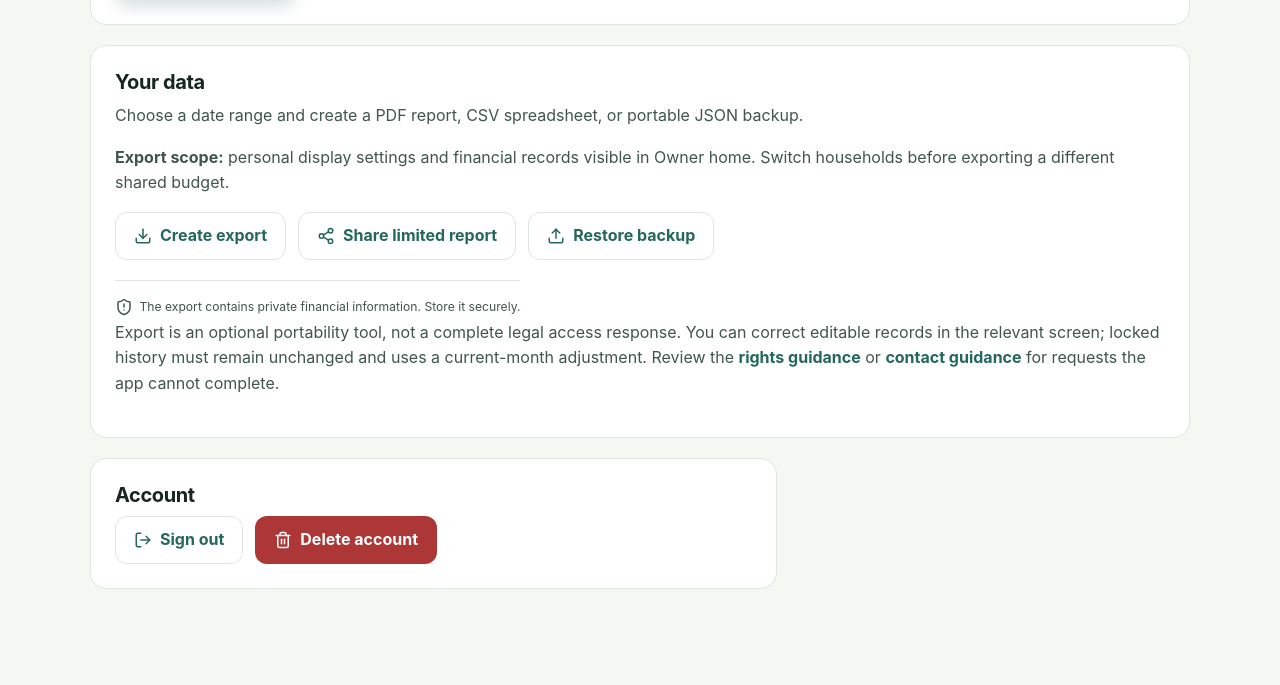
COMP-007 account deletion › does not clear the session or report success when server deletion fails
(page scrolled)
Click the button "Delete account": {"x": 346, "y": 540} [255, 516, 437, 564]
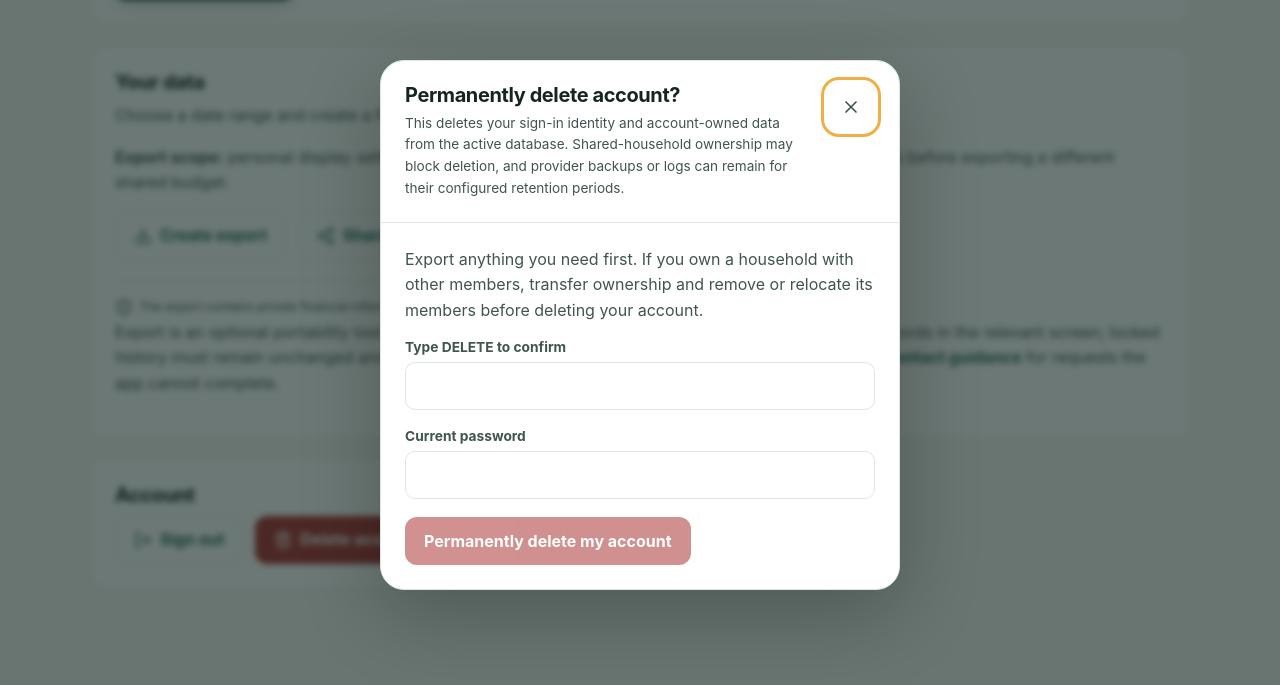
In the field labelled "Type DELETE to confirm": {"x": 640, "y": 386} [405, 362, 875, 410], type "DELETE"
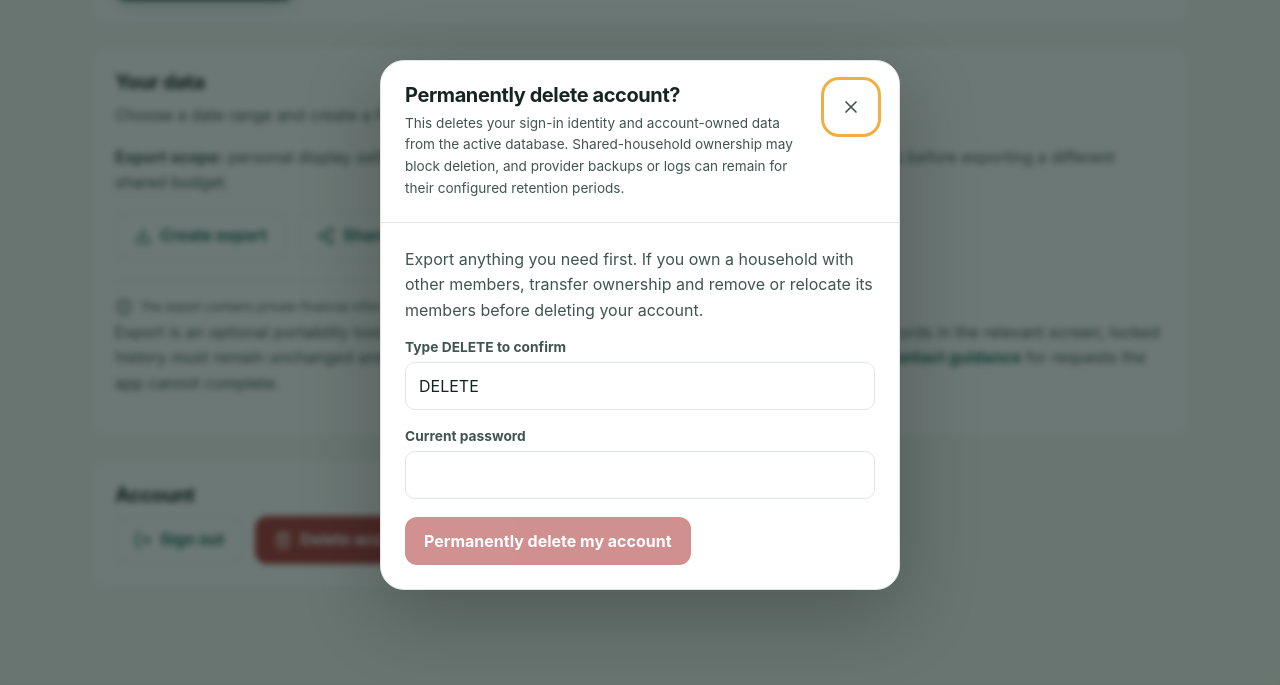
In the password field labelled "Current password": {"x": 640, "y": 475} [405, 451, 875, 499], type "correct horse battery staple"
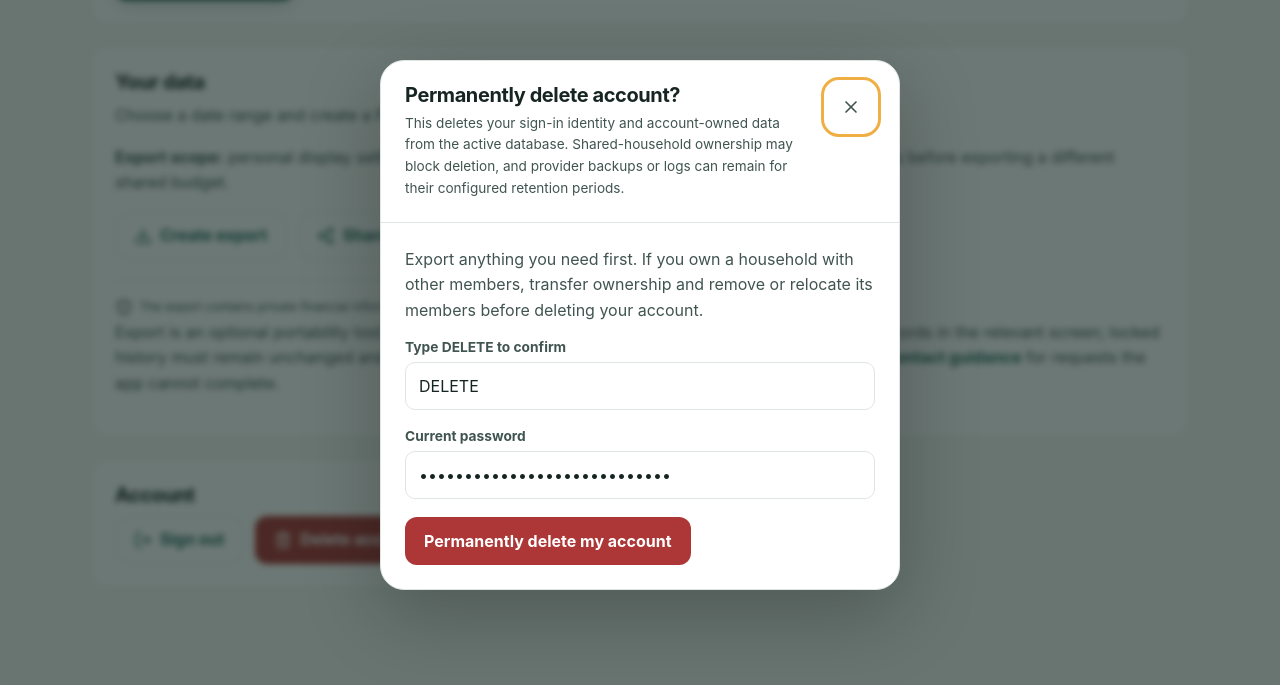
Click the button "Permanently delete my account": {"x": 548, "y": 541} [405, 517, 690, 565]
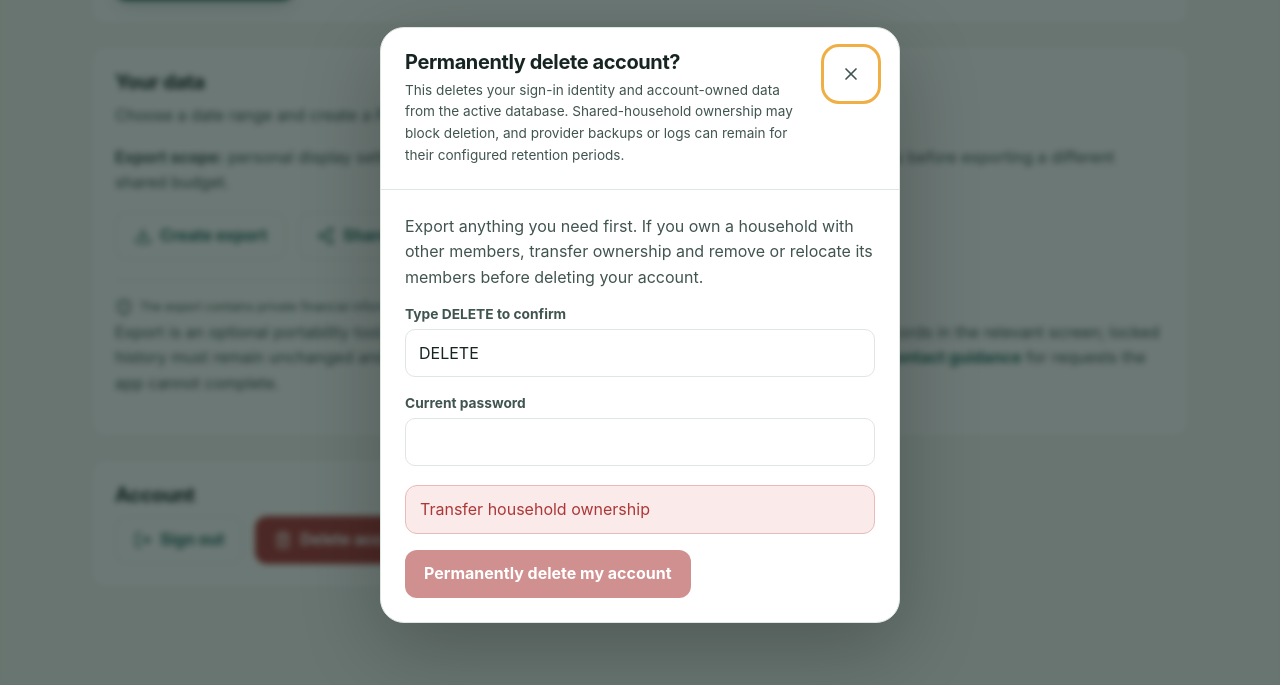
Expected: the message reads "Transfer household ownership", [420, 499, 650, 519]
